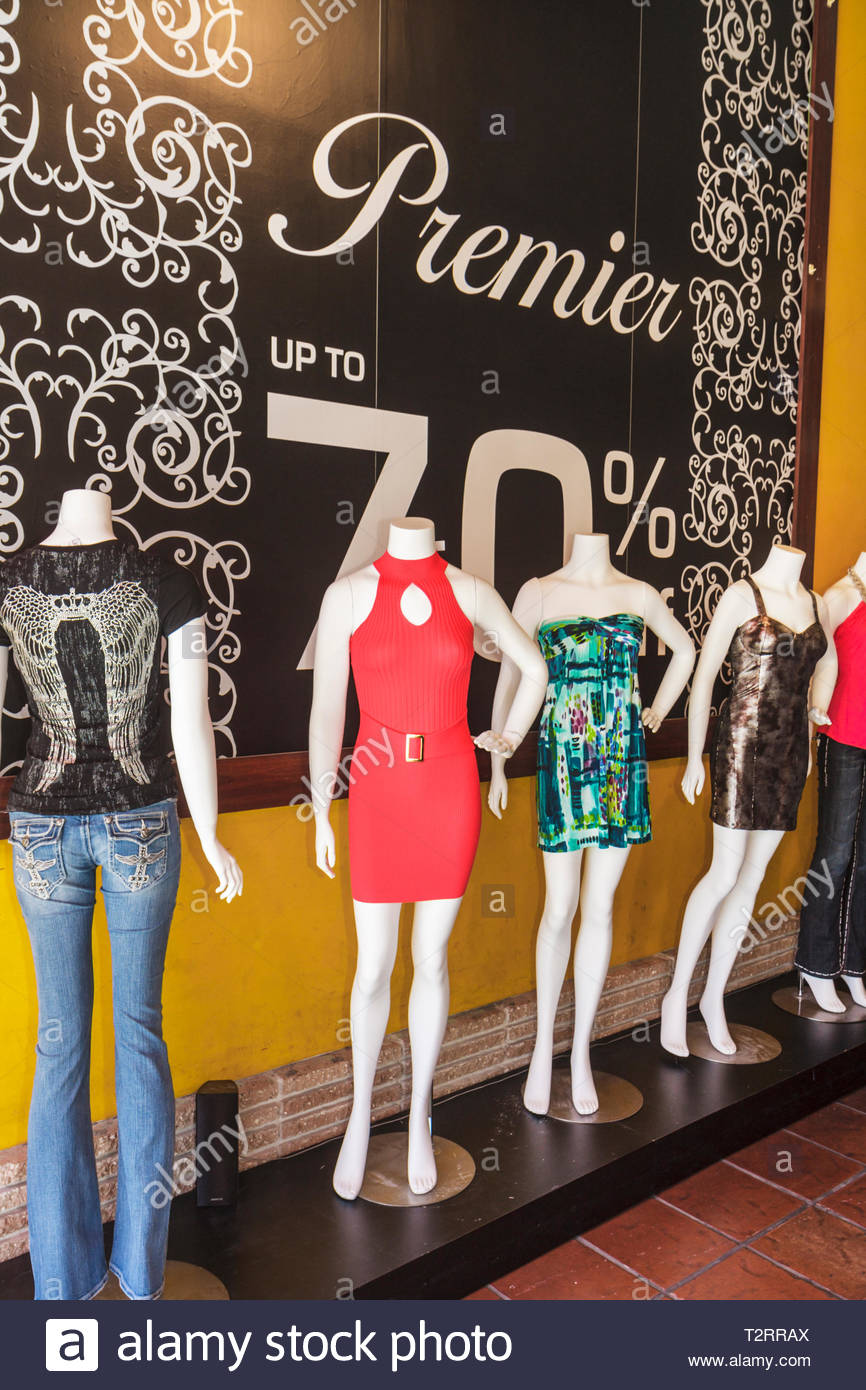person-like: (3, 477, 258, 1313), (296, 506, 556, 1203), (481, 521, 708, 1121), (649, 530, 847, 1072)
